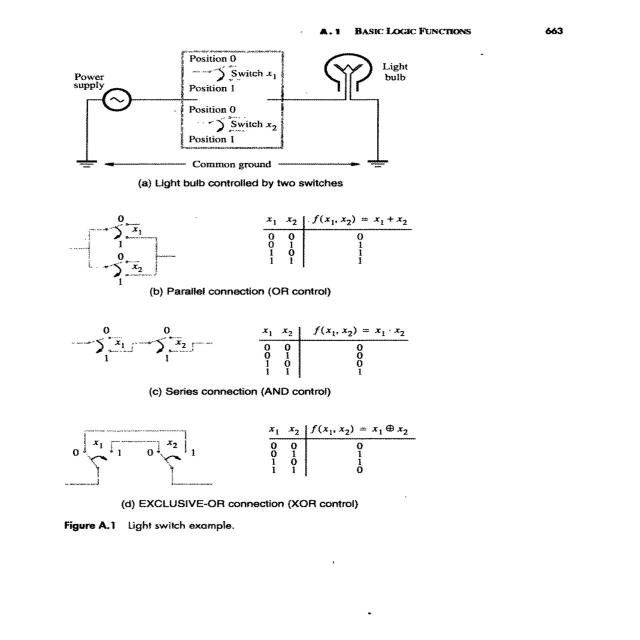diagram: (34, 41, 537, 538)
